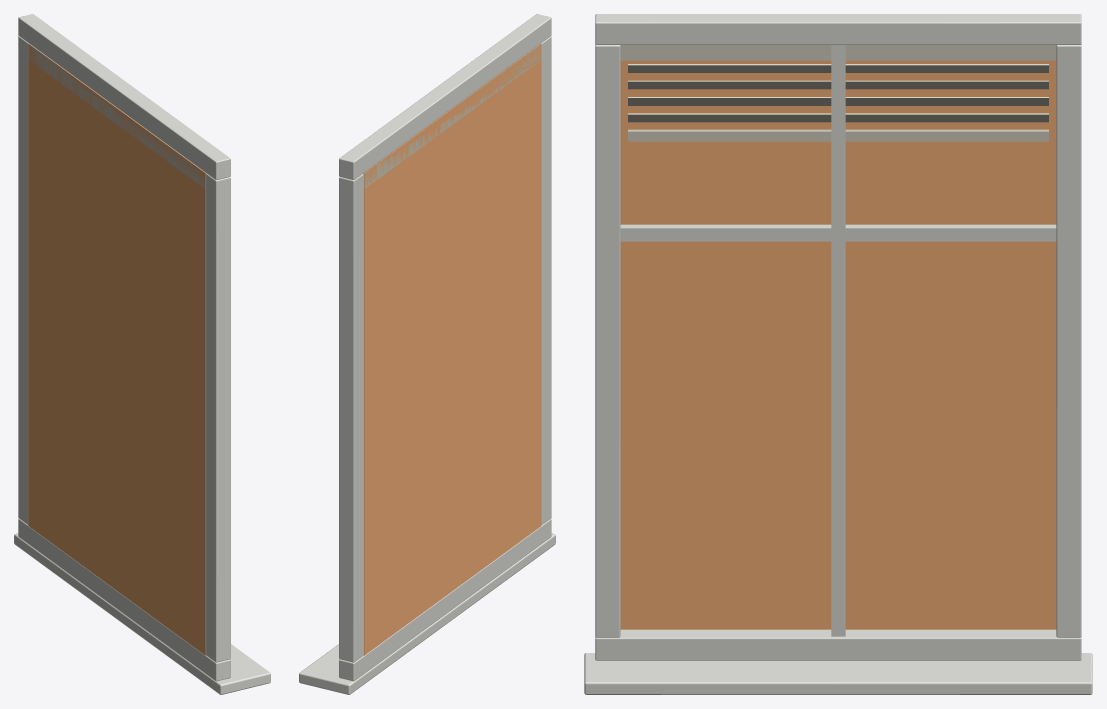
File: window_entry_188.glb
3 views of the same model, side by side, from view 1: azimuth 30°, elevation 25°; view 2: azimuth 150°, elevation 25°; view 3: azimuth 270°, elevation 25° (orthographic). The views are drawn at different scales.
Parts seen in each view (by area): view 1: laibung_hinten, rahmen.003, rahmen, rahmen.002, rahmen.001, bank, jal_kasten; view 2: laibung_hinten, rahmen.002, rahmen, rahmen.003, rahmen.001, bank, jal_kasten; view 3: laibung_hinten, bank, rahmen.002, rahmen.003, rahmen, rahmen.001, sprosse, kaempfer, jal_kasten, jal_leiste, lamelle4, lamelle2 (+2 smaller).
Part boxes in pixels (box(x1,y1,x2,y2)): laibung_hinten: box(28, 43, 206, 655); rahmen.003: box(206, 173, 230, 662); rahmen: box(18, 14, 230, 179); rahmen.002: box(18, 36, 28, 524); rahmen.001: box(18, 518, 230, 681); bank: box(14, 533, 270, 694); jal_kasten: box(28, 44, 205, 188); laibung_hinten: box(363, 43, 541, 655); rahmen.002: box(339, 173, 363, 662); rahmen: box(339, 14, 551, 179); rahmen.003: box(541, 36, 551, 524); rahmen.001: box(339, 518, 551, 681); bank: box(299, 533, 555, 694); jal_kasten: box(364, 43, 541, 188); laibung_hinten: box(620, 60, 1056, 629); bank: box(584, 653, 1092, 694); rahmen.002: box(1056, 44, 1081, 637); rahmen.003: box(595, 44, 620, 637); rahmen: box(595, 14, 1081, 44); rahmen.001: box(595, 629, 1081, 660); sprosse: box(831, 45, 845, 636); kaempfer: box(620, 224, 1056, 241); jal_kasten: box(620, 45, 1056, 60); jal_leiste: box(628, 129, 1048, 141); lamelle4: box(628, 113, 1048, 122); lamelle2: box(628, 80, 1048, 89).
Bounding box in the file's own units: 0.2 × 1.98 × 1.4.
